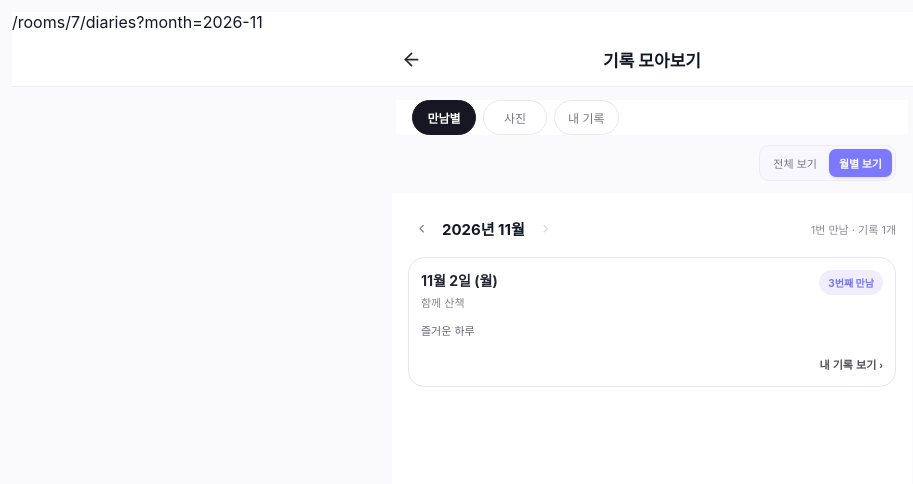
month navigation skips months without published records and stops at the first and last
Expected: the text "즐거운 하루" is shown, x1=421 y1=324 x2=475 y2=338
Expected: the button named "다음 달" is disabled, x1=532 y1=215 x2=559 y2=242
Step 1. Click the button named "이전 달" → click(422, 228), box x1=408 y1=215 x2=435 y2=242
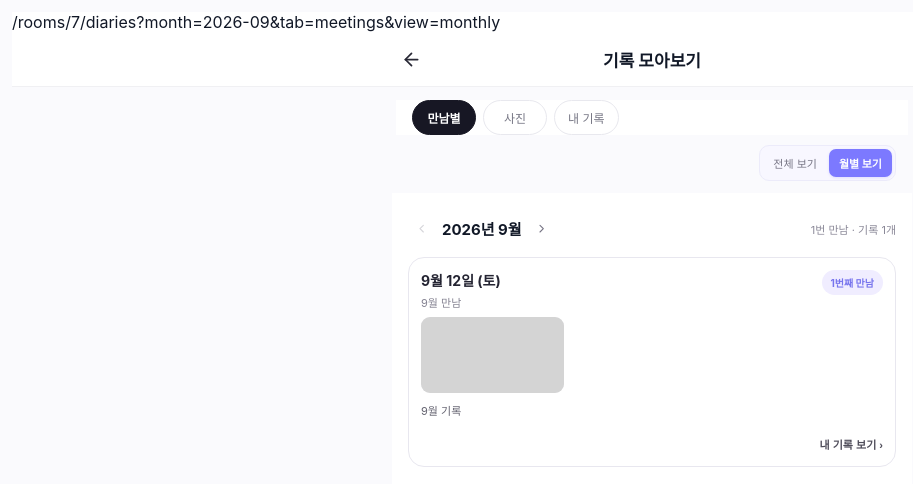
Now the heading "2026년 9월" is shown, box x1=442 y1=218 x2=522 y2=239
Now the text "9월 기록" is shown, box x1=421 y1=404 x2=461 y2=418
Step 2. Click the button named "다음 달" → click(542, 228), box x1=529 y1=215 x2=556 y2=242
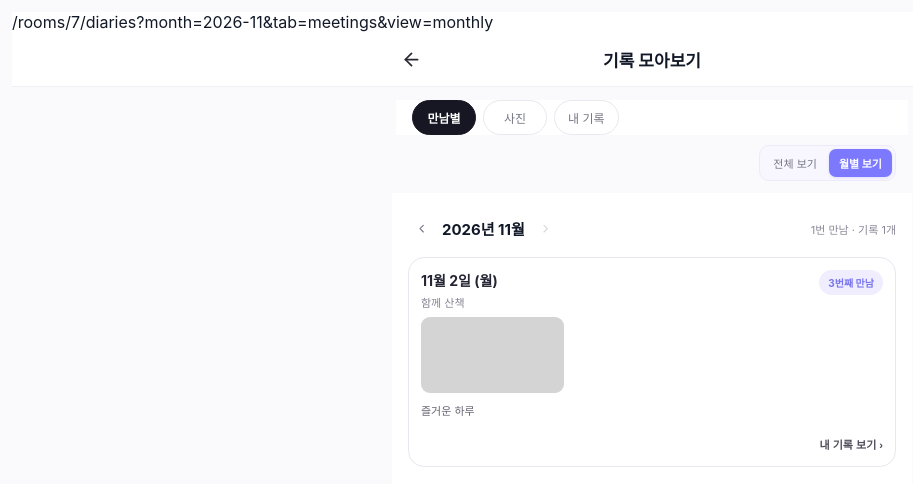
Now the heading "2026년 11월" is shown, box x1=442 y1=218 x2=525 y2=239
